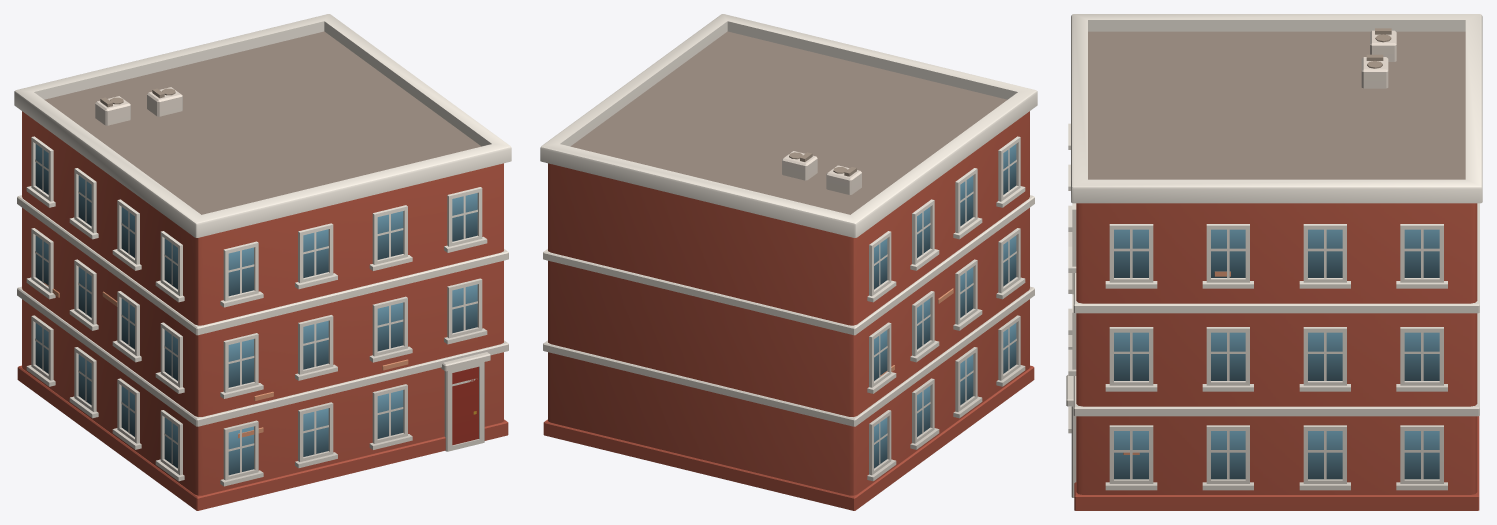
The model's file is tremont_n0.glb.
3 views of the same model, side by side, from view 1: azimuth 30°, elevation 25°; view 2: azimuth 150°, elevation 25°; view 3: azimuth 270°, elevation 25° (orthographic). The views are drawn at different scales.
Parts seen in each view (by area): view 1: tremont_n0; view 2: tremont_n0; view 3: tremont_n0.
Boxes of the visible parts, box(x1,y1,x2,y2) form: tremont_n0: box(14, 14, 511, 510); tremont_n0: box(540, 14, 1037, 510); tremont_n0: box(1066, 14, 1482, 510).
Size of the model in its own units: 12.48 by 11.11 by 12.46.
1 material, 1 textured.
